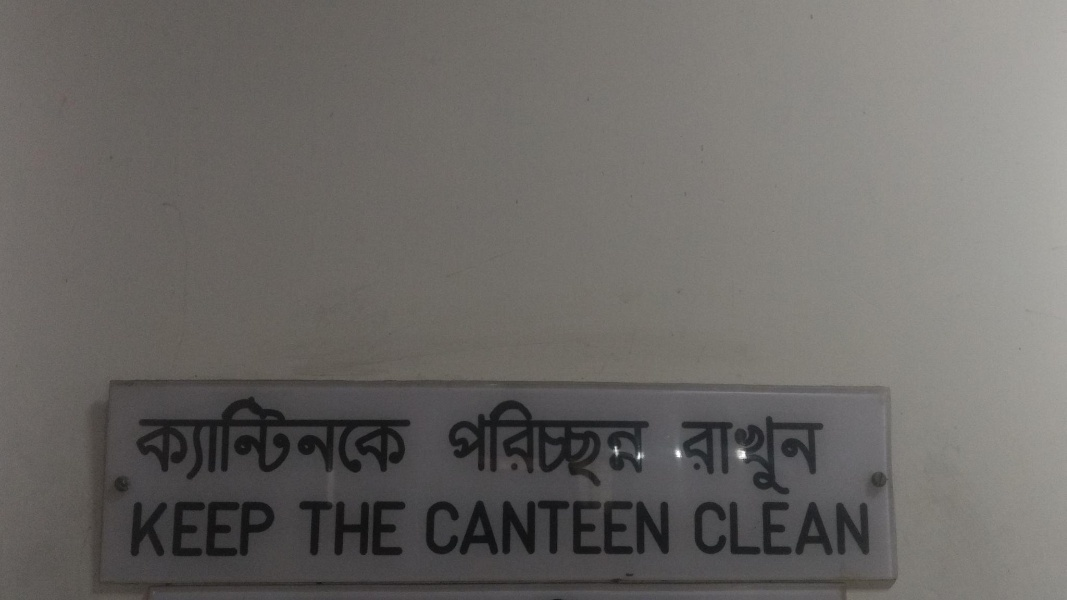text: (145, 395, 160, 483), (161, 395, 176, 483), (177, 395, 192, 483), (193, 395, 208, 483), (209, 395, 224, 483), (225, 395, 240, 483), (241, 395, 256, 483), (257, 395, 272, 483), (273, 395, 288, 483), (289, 395, 304, 483), (305, 395, 320, 483), (321, 395, 336, 483), (337, 395, 352, 483), (353, 395, 368, 483), (369, 395, 384, 483), (385, 395, 400, 483), (449, 399, 464, 487), (465, 399, 480, 487), (481, 399, 496, 487), (497, 399, 512, 487), (513, 399, 528, 487), (529, 399, 544, 487), (545, 399, 560, 487), (561, 399, 576, 487), (577, 399, 592, 487), (593, 399, 608, 487), (609, 399, 624, 487), (625, 399, 640, 487), (689, 410, 704, 497), (705, 410, 720, 497), (721, 410, 736, 497), (737, 410, 752, 497), (753, 410, 768, 497), (769, 410, 784, 497), (785, 410, 800, 497), (801, 410, 816, 497), (401, 395, 413, 483), (657, 496, 673, 556), (305, 498, 320, 559), (321, 498, 336, 559), (337, 498, 352, 559), (353, 498, 368, 559), (369, 498, 384, 559), (385, 498, 400, 559), (433, 496, 448, 556), (449, 496, 464, 556), (465, 496, 480, 556), (481, 496, 496, 556), (497, 496, 512, 556), (513, 496, 528, 556), (529, 496, 544, 556), (545, 496, 560, 556), (561, 496, 576, 556), (577, 496, 592, 556), (593, 496, 608, 556), (609, 496, 624, 556), (625, 496, 640, 556), (641, 496, 656, 556), (641, 399, 651, 487), (145, 502, 160, 559), (161, 502, 176, 559), (177, 502, 192, 559), (193, 502, 208, 559), (209, 502, 224, 559), (225, 502, 240, 559), (241, 502, 256, 559), (257, 502, 272, 559), (705, 501, 720, 558), (721, 501, 736, 558), (737, 501, 752, 558), (753, 501, 768, 558), (769, 501, 784, 558), (785, 501, 800, 558), (801, 501, 816, 558), (817, 501, 832, 558), (833, 501, 848, 558), (849, 501, 864, 558), (679, 410, 688, 497), (817, 410, 826, 497), (691, 501, 704, 558), (421, 496, 432, 556), (134, 502, 144, 559), (865, 501, 872, 558), (401, 498, 407, 559), (141, 395, 144, 483), (300, 498, 304, 559), (273, 502, 277, 559)
